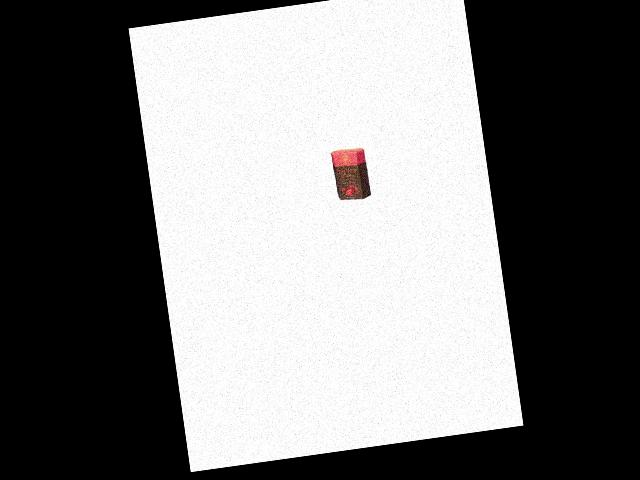chocolate: (329, 144, 373, 207)
